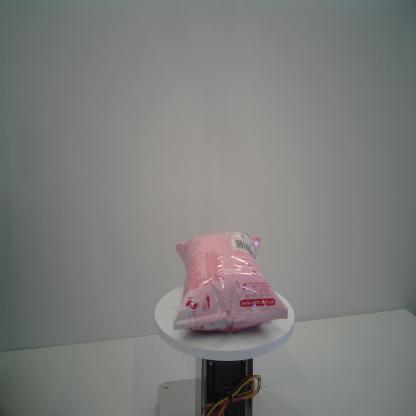Puffed Food: (173, 230, 288, 334)
